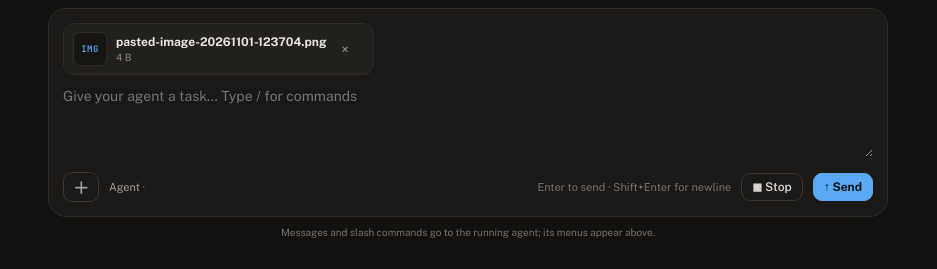
Scenario: composer attachments on the terminal transport › a refused hand-over keeps the draft and the attachment, and says why
In the text box with placeholder "Give your agent a task… Type / for commands": (468, 121) [63,85,873,157], type "Look"
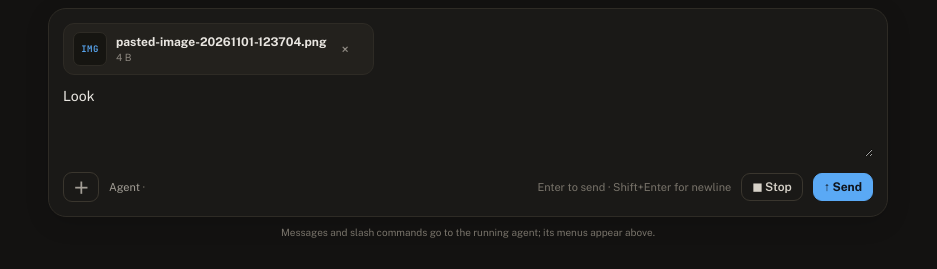
Submit the form
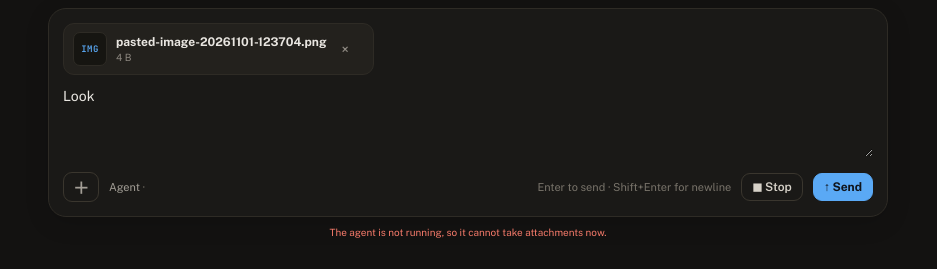
Check: the message "The agent is not running, so it cannot take attachments now." is shown, box [330,226,606,238]
